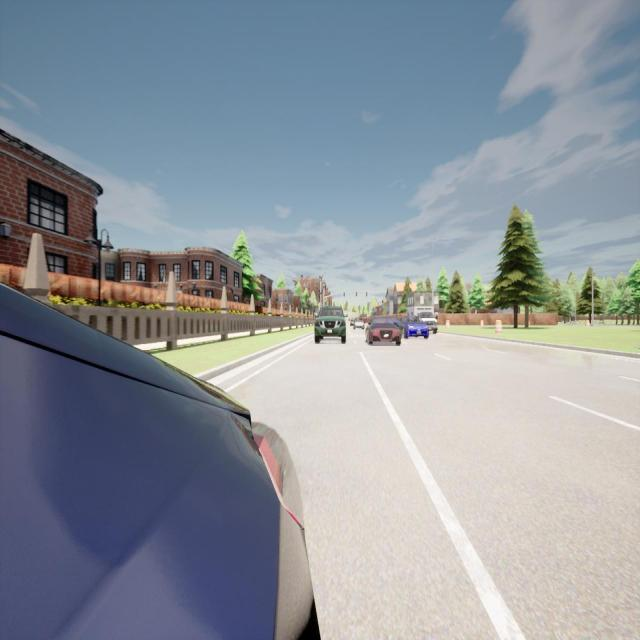Vehicle: (0, 284, 317, 638), (314, 304, 347, 345), (365, 318, 401, 348), (404, 307, 440, 335), (399, 316, 430, 340), (354, 320, 365, 331), (350, 318, 354, 328)
traffic_light: (343, 292, 345, 296), (366, 292, 368, 296), (356, 292, 357, 296)
